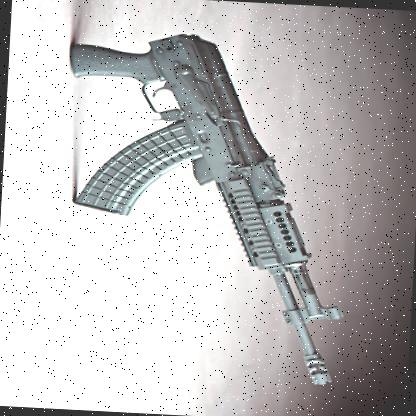rifle: (39, 17, 379, 396)
